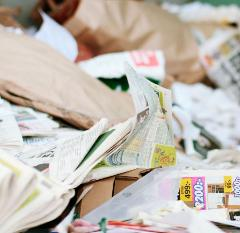paper: (0, 61, 176, 233), (82, 61, 176, 184), (69, 166, 239, 233), (48, 118, 110, 184), (76, 50, 166, 84), (34, 7, 78, 63)
